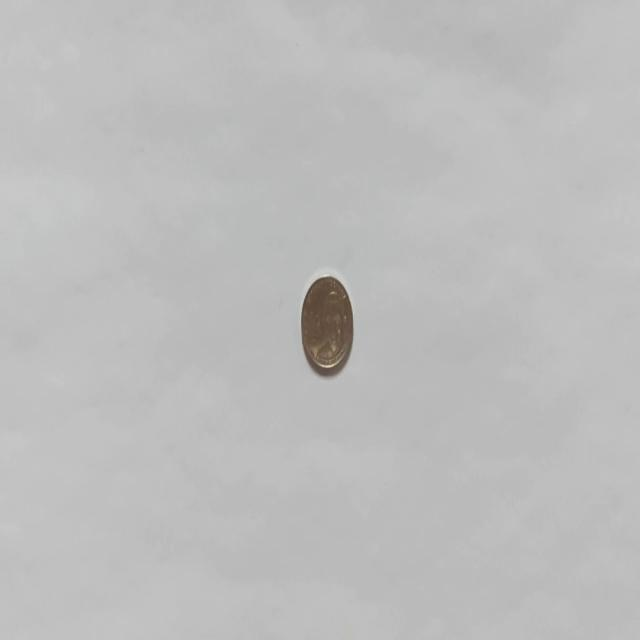seribu rupiah koin: (300, 272, 354, 374)
